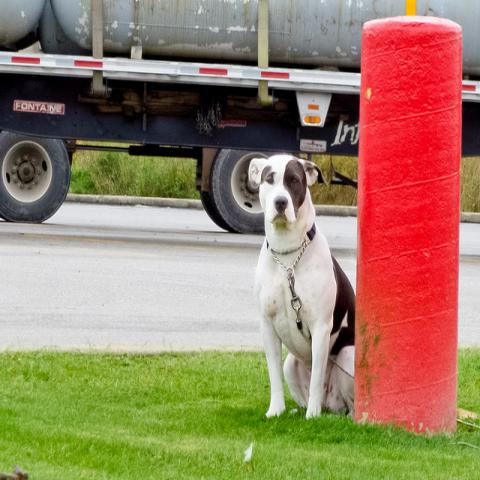truck: (1, 1, 479, 234)
